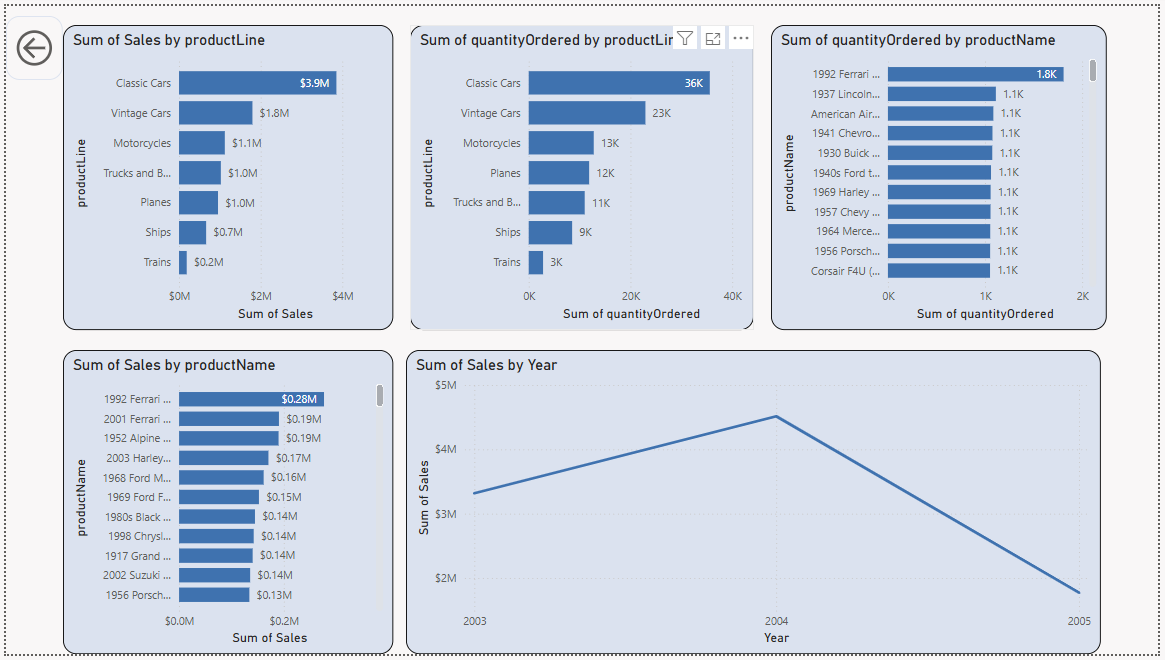

The dashboard page shown, as its layout file describes it:
{"tool":"powerbi","page":{"name":"Sales Details based on Product Line","canvas":[1280,720],"ordinal":2},"visuals":[{"type":"actionButton","box":[0,10.7,63,71.4],"z":0},{"type":"clusteredBarChart","fields":{"Category":["ProductLines.productLine"],"Y":["Sum(OrderDetails.Sales)"]},"box":[63.5,20.8,366.9,339.2],"z":1000},{"type":"clusteredBarChart","fields":{"Category":["ProductLines.productLine"],"Y":["Sum(OrderDetails.quantityOrdered)"]},"box":[448.8,20.8,381.9,339.2],"z":2000},{"type":"clusteredBarChart","fields":{"Category":["Products.productName"],"Y":["Sum(OrderDetails.Sales)"]},"box":[63.5,381.9,366.9,338.1],"z":3000},{"type":"clusteredBarChart","fields":{"Category":["Products.productName"],"Y":["Sum(OrderDetails.quantityOrdered)"]},"box":[850.4,20.8,372.7,339.2],"z":4000},{"type":"lineChart","fields":{"Y":["Sum(OrderDetails.Sales)"],"Category":["Orders.orderDate.Variation.Date Hierarchy.Year","Orders.orderDate.Variation.Date Hierarchy.Quarter","Orders.orderDate.Variation.Date Hierarchy.Month","Orders.orderDate.Variation.Date Hierarchy.Day"]},"box":[444.2,381.9,771.9,338.1],"z":5000}]}

Visuals, with their boxes in screenshot pixels (x1, y1, x2, y2), scaled from the page's 1280x720 canvas onto the 1165x660 screenshot:
actionButton: [left=0, top=10, right=57, bottom=75]
clusteredBarChart - ProductLines.productLine x Sum(OrderDetails.Sales): [left=58, top=19, right=392, bottom=330]
clusteredBarChart - ProductLines.productLine x Sum(OrderDetails.quantityOrdered): [left=408, top=19, right=756, bottom=330]
clusteredBarChart - Products.productName x Sum(OrderDetails.Sales): [left=58, top=350, right=392, bottom=659]
clusteredBarChart - Products.productName x Sum(OrderDetails.quantityOrdered): [left=774, top=19, right=1113, bottom=330]
lineChart - Sum(OrderDetails.Sales) x Orders.orderDate.Variation.Date Hierarchy.Year: [left=404, top=350, right=1107, bottom=659]
